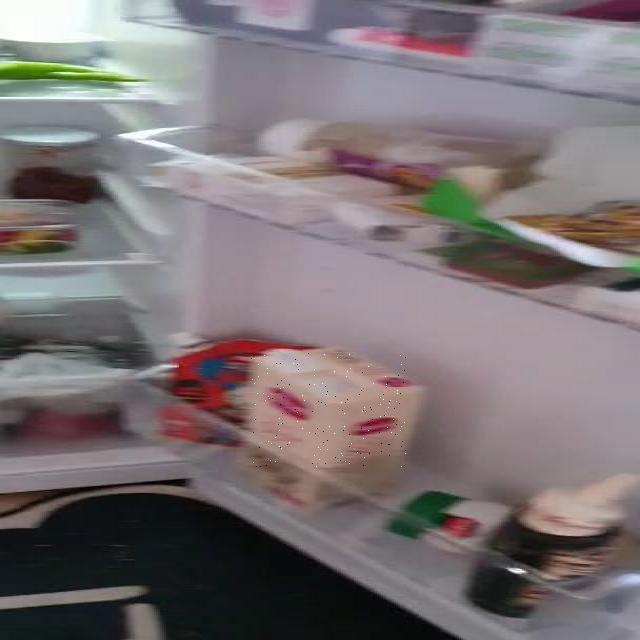milk: (251, 352, 407, 467)
